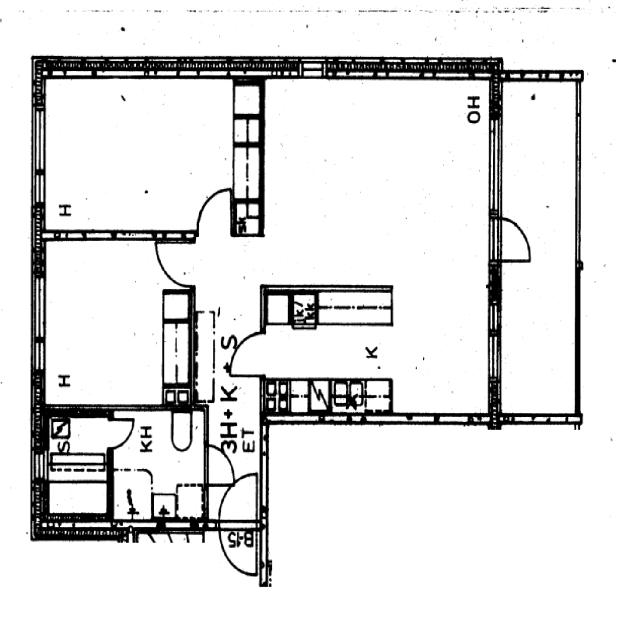door: (153, 234, 200, 290), (492, 215, 539, 263), (213, 477, 259, 525), (218, 524, 259, 576), (194, 184, 233, 232), (231, 330, 269, 378), (202, 444, 237, 487), (102, 411, 140, 450)
window: (27, 268, 52, 362), (487, 118, 506, 217), (28, 106, 50, 173), (29, 167, 48, 205)
zone: (40, 76, 243, 236), (37, 233, 187, 408), (110, 406, 208, 521), (47, 412, 112, 481), (266, 378, 309, 414)
